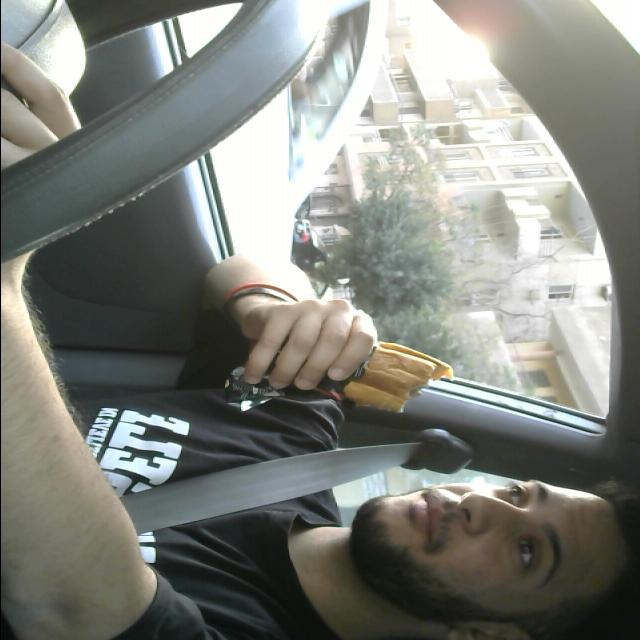eating: (219, 337, 461, 425)
